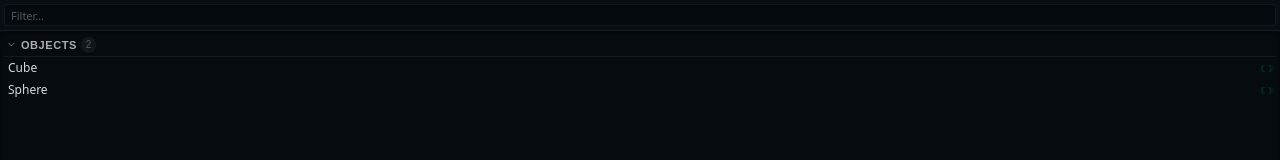
Test: TreeList — context menu integration › right-click opens context menu when domain provides getContextItems
Right-click the text "Cube" at [23, 68], box [8, 59, 37, 76]
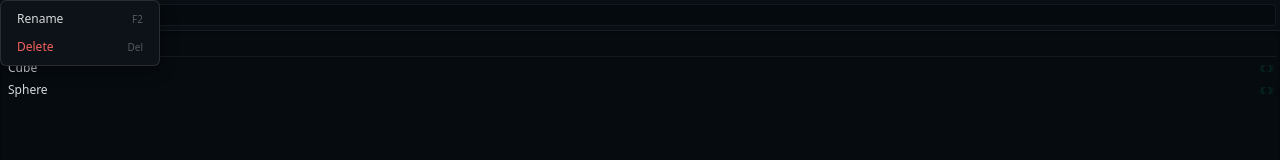
Check: the menu with class "ctx-menu" is shown, box [0, 0, 160, 66]
Check: the text "Rename" is shown, box [17, 10, 63, 28]
